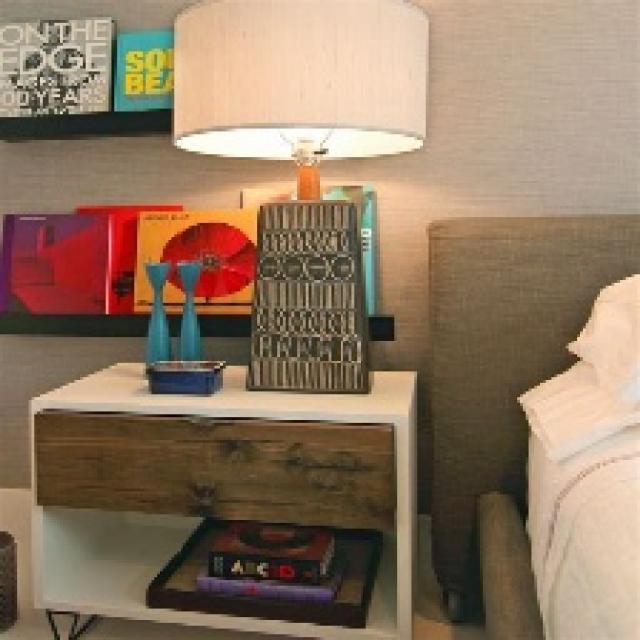Bed: (423, 212, 637, 637)
